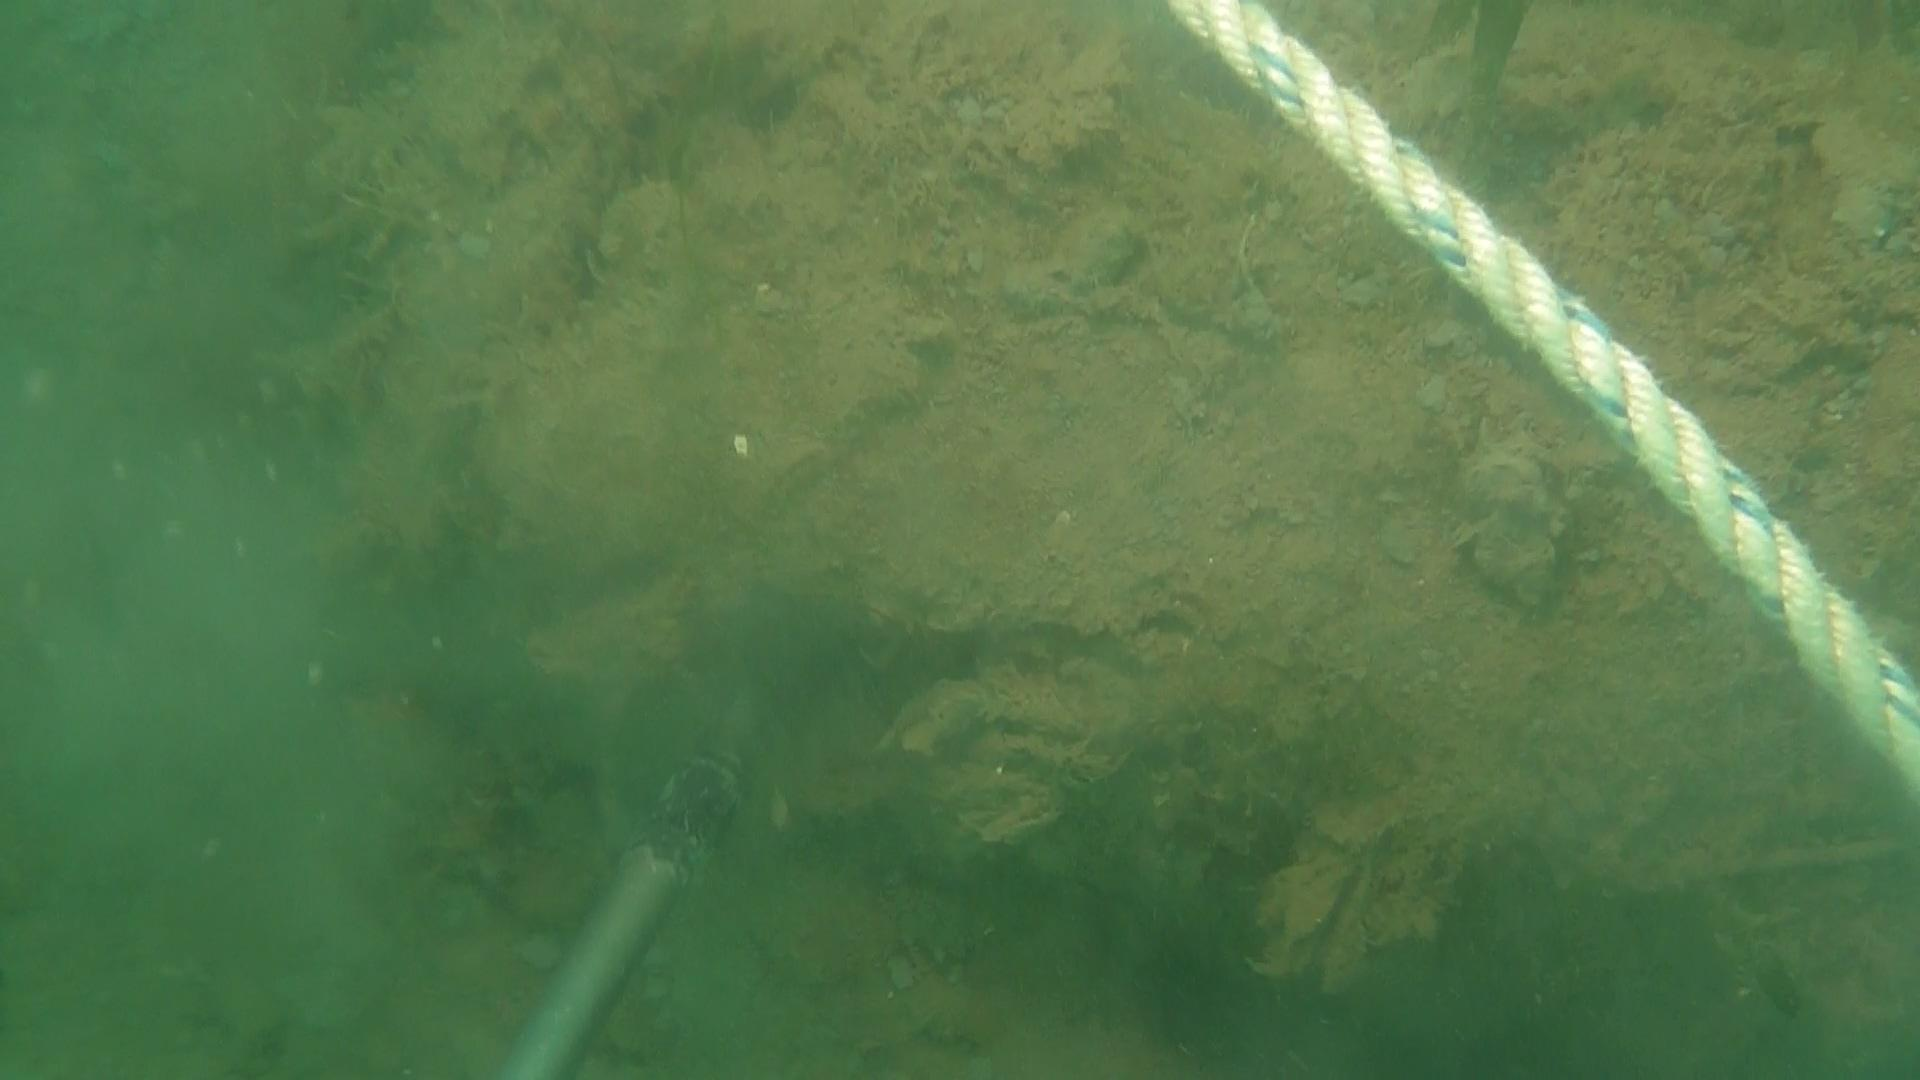rope: (1164, 0, 1920, 811)
